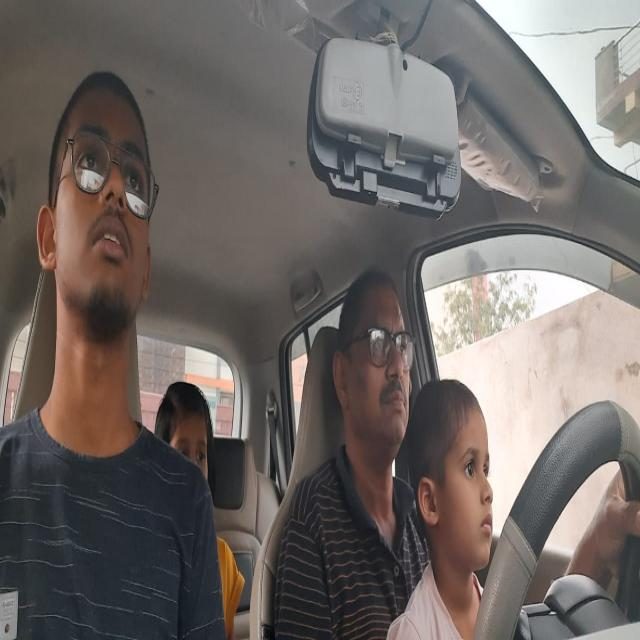child: (410, 370, 498, 580)
person: (36, 50, 156, 350), (331, 259, 414, 471), (155, 367, 218, 501)
